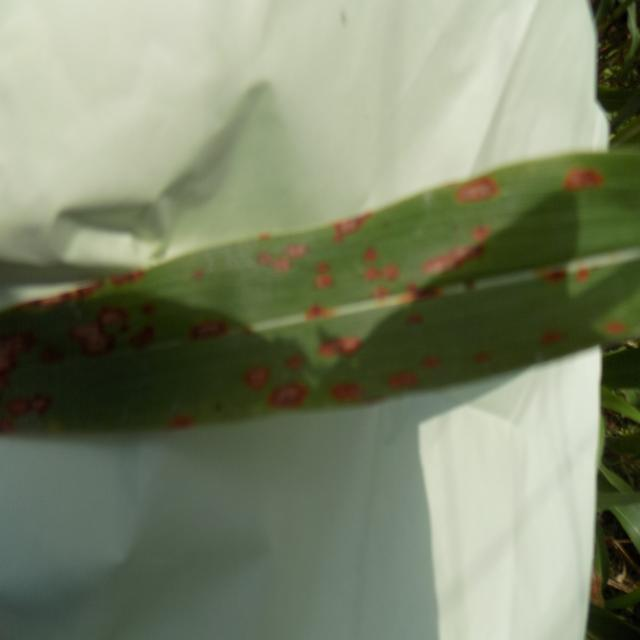millet_rust: (0, 141, 640, 446)
